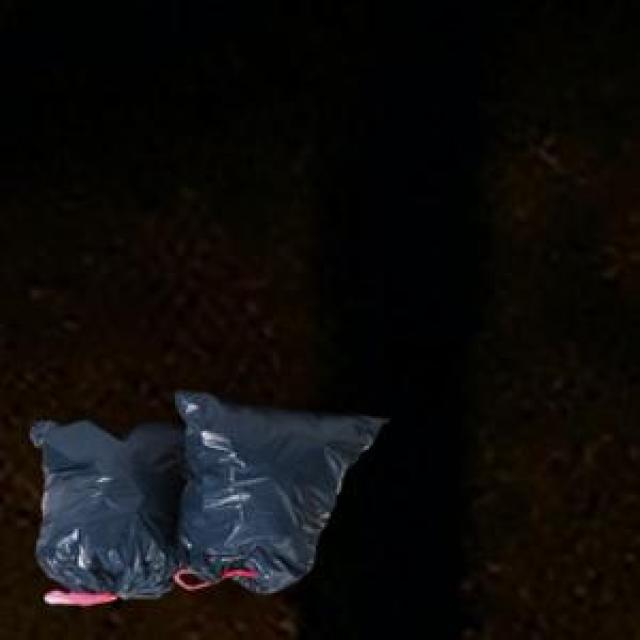Vinyl: (31, 391, 386, 606)
